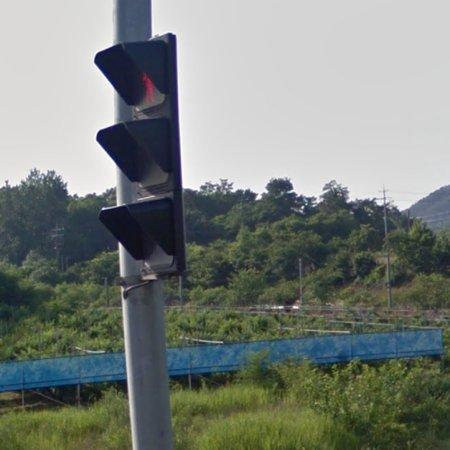traffic lights: (95, 33, 186, 274)
